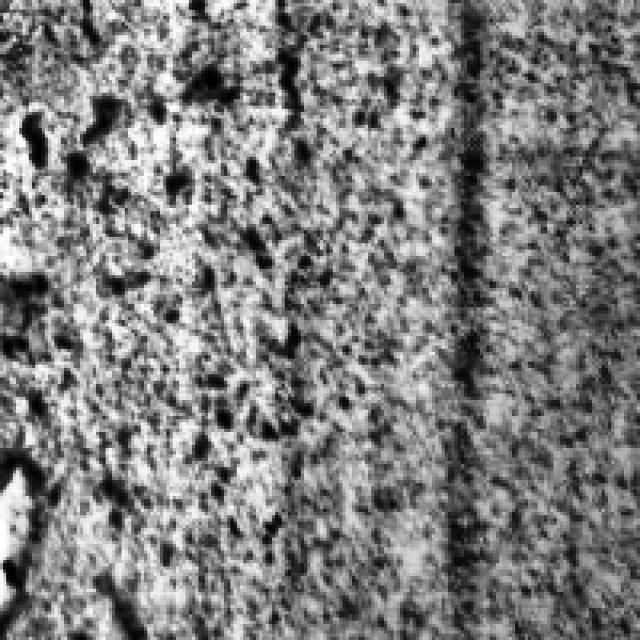Rolled_in_Scale: (57, 0, 588, 570), (0, 57, 256, 634)
